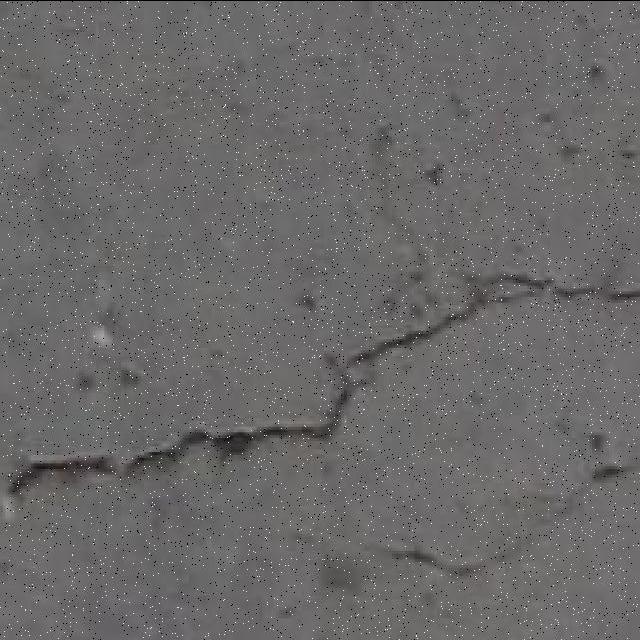crack: (35, 275, 640, 406), (6, 352, 397, 518), (85, 305, 148, 387), (7, 455, 119, 500), (481, 271, 633, 301), (557, 138, 638, 163), (6, 464, 45, 498), (490, 271, 557, 290), (490, 289, 549, 305)
